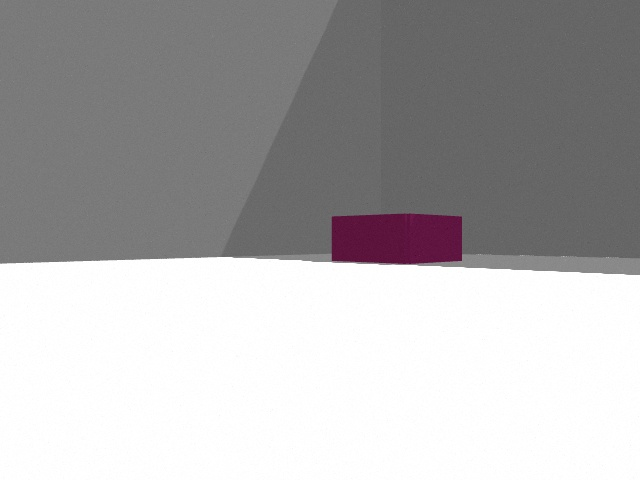red_drop_zone: (332, 214, 462, 264)
